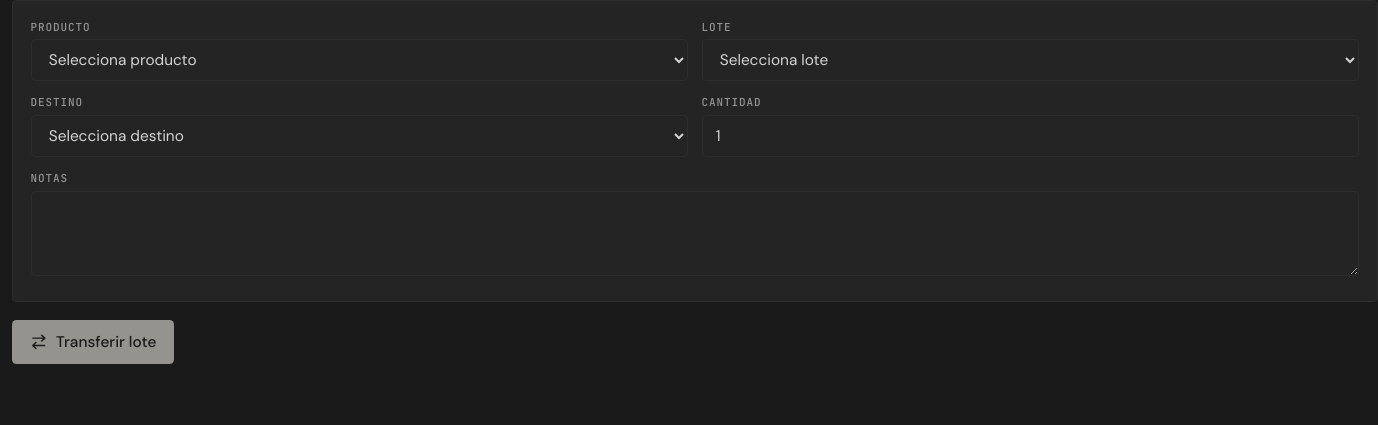
Scenario: TransferLotForm › valida cantidad positiva antes de transferir
Step 1. Select "Tomate pera" in the dropdown labelled "Producto" → (360, 60), box [31,40,688,81]
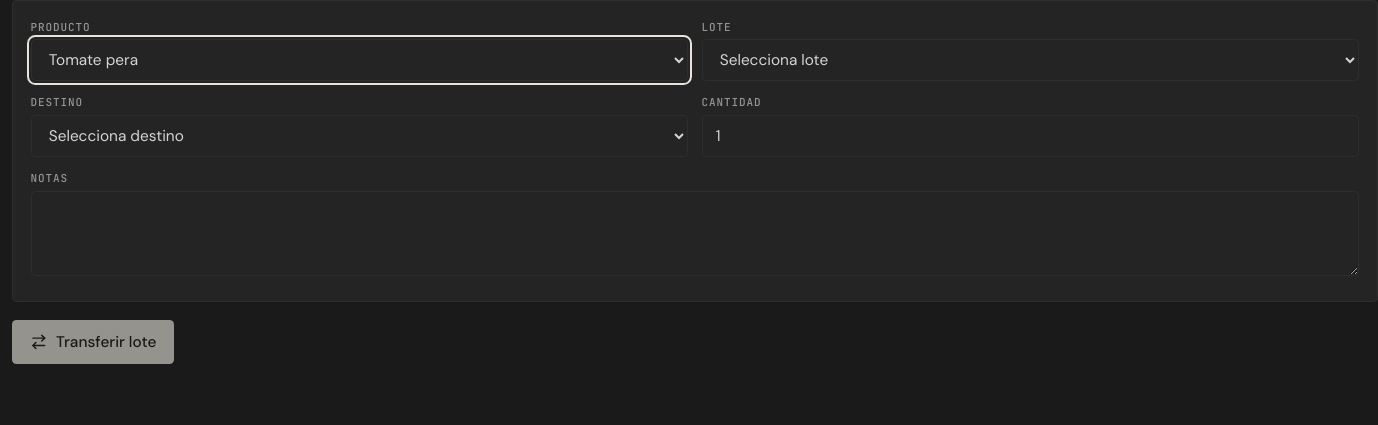
Step 2. Select "33333333 · Economato seco · 7 kg" in the dropdown labelled "Lote" → (1030, 60), box [702,40,1359,81]
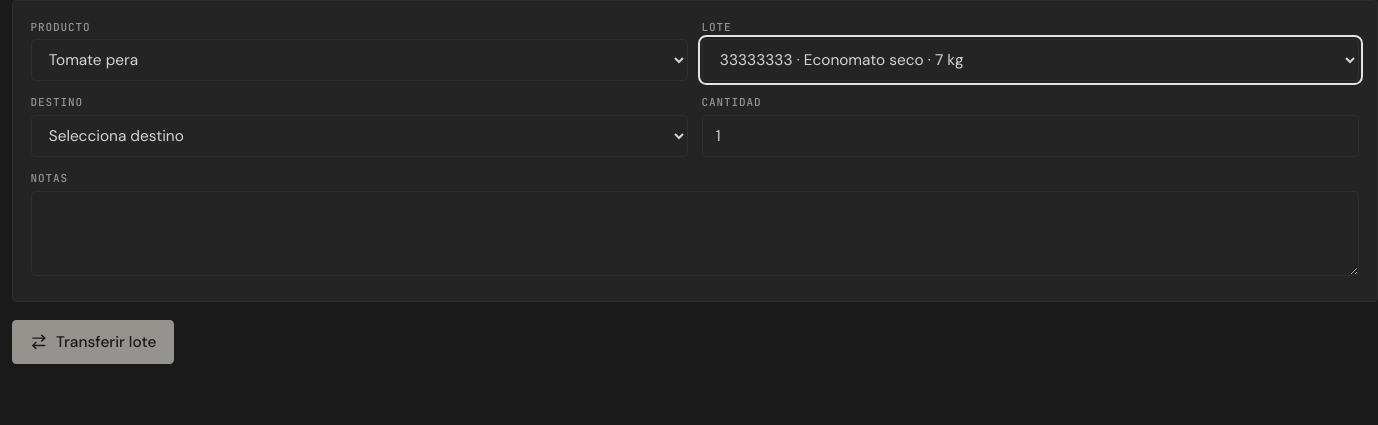
Step 3. Select "Cocina fría" in the dropdown labelled "Destino" → (360, 136), box [31,115,688,157]
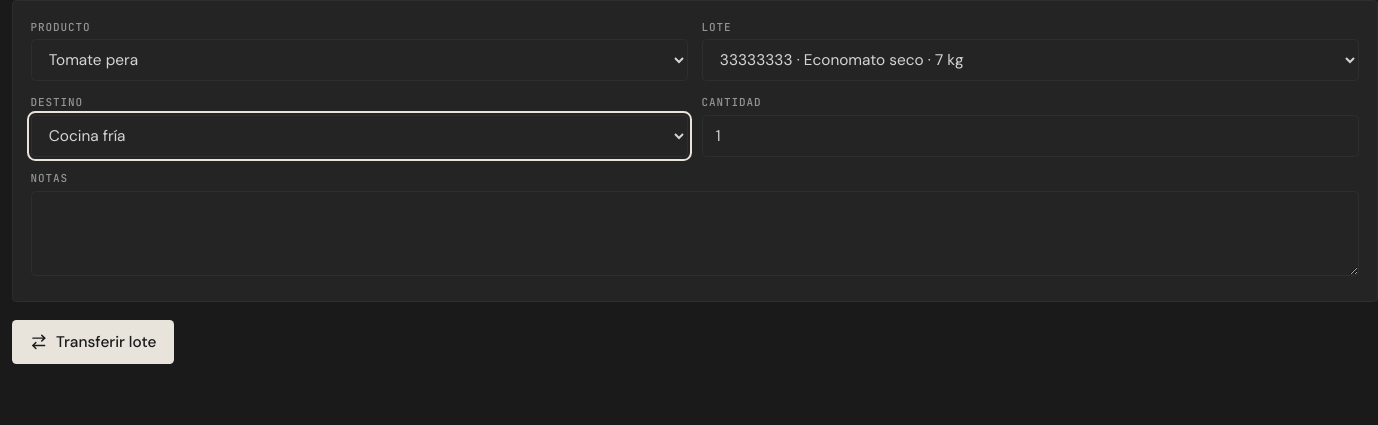
Step 4. Replace the text in the number field labelled "Cantidad" with "0" → (1030, 136), box [702,115,1359,157]
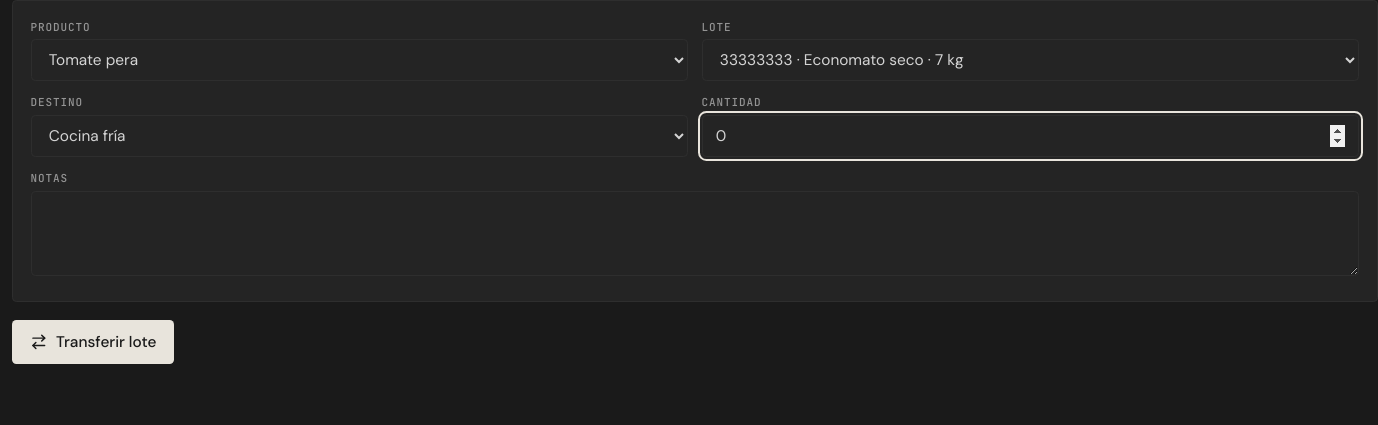
Step 5. Click the button "Transferir lote" → (93, 342), box [12,320,174,364]
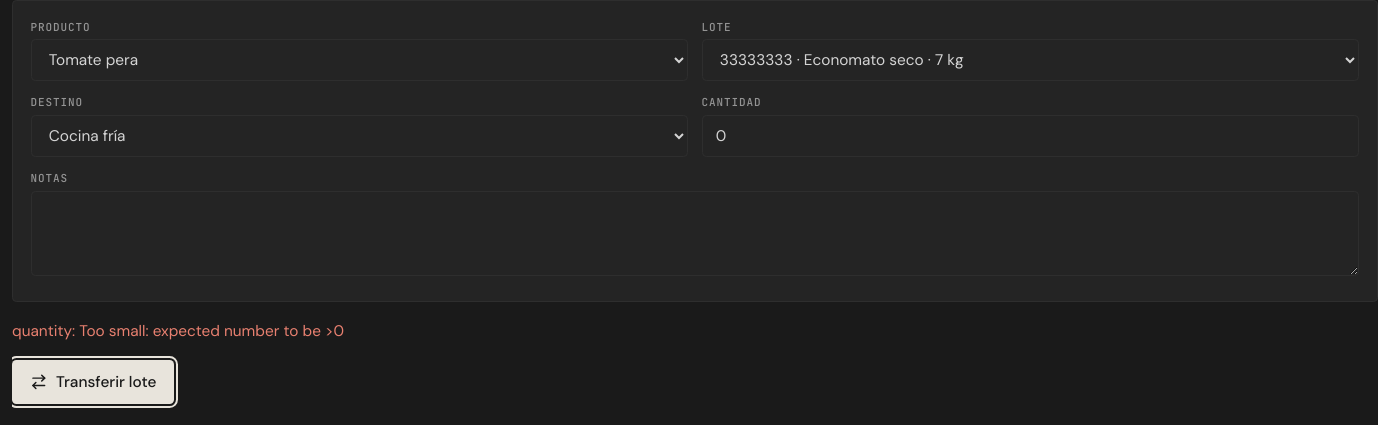
Expected: the text "quantity" is shown, [12,321,344,341]
